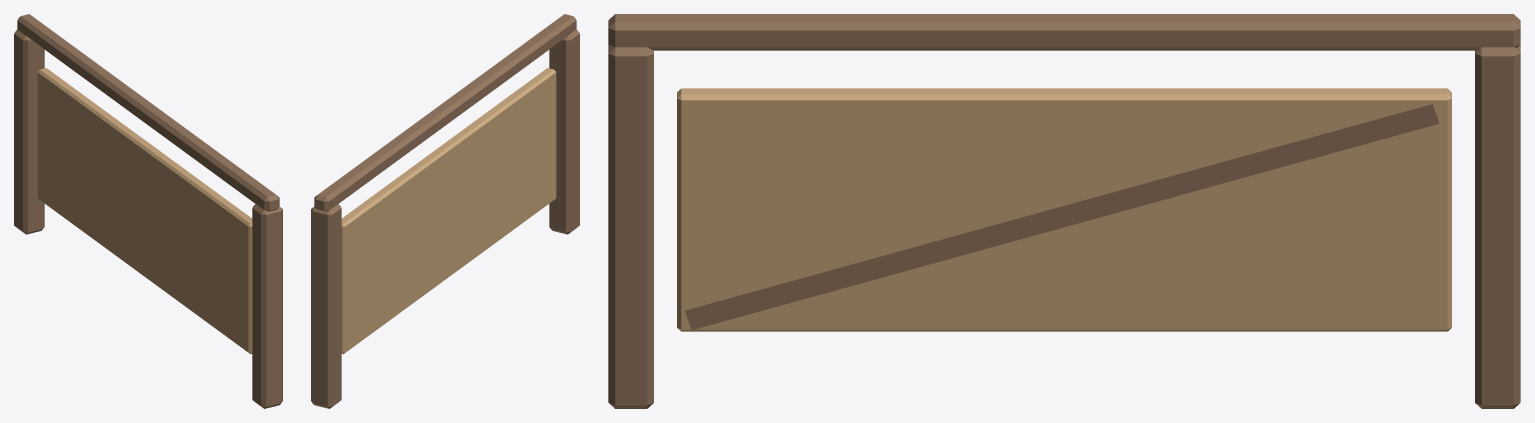
The model's file is town_fence_gate.glb.
3 views of the same model, side by side, from view 1: azimuth 30°, elevation 25°; view 2: azimuth 150°, elevation 25°; view 3: azimuth 270°, elevation 25° (orthographic). The views are drawn at different scales.
Visible parts, largest first — view 1: world; view 2: world; view 3: world.
Boxes of the visible parts, x1=… form: world: x1=14, y1=14, x2=282, y2=408; world: x1=311, y1=14, x2=579, y2=408; world: x1=608, y1=14, x2=1520, y2=408.
Bounding box in the file's own units: 0.1001 × 0.93 × 2.
